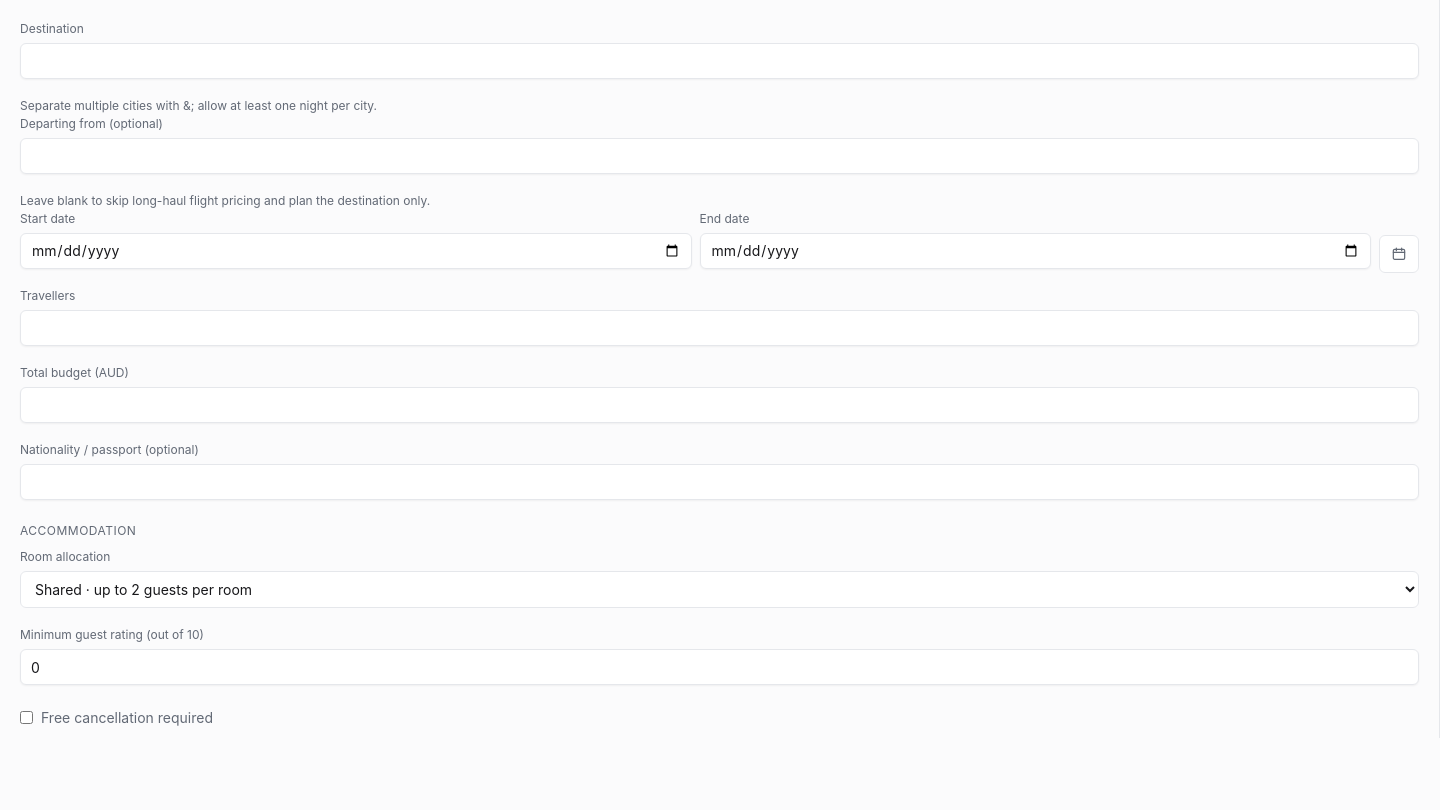
FiltersPanel dates › opens the same calendar picker used in chat from a dedicated button
Click the button named "pick trip dates from a calendar". click: (1399, 254)
box: [1379, 235, 1419, 273]
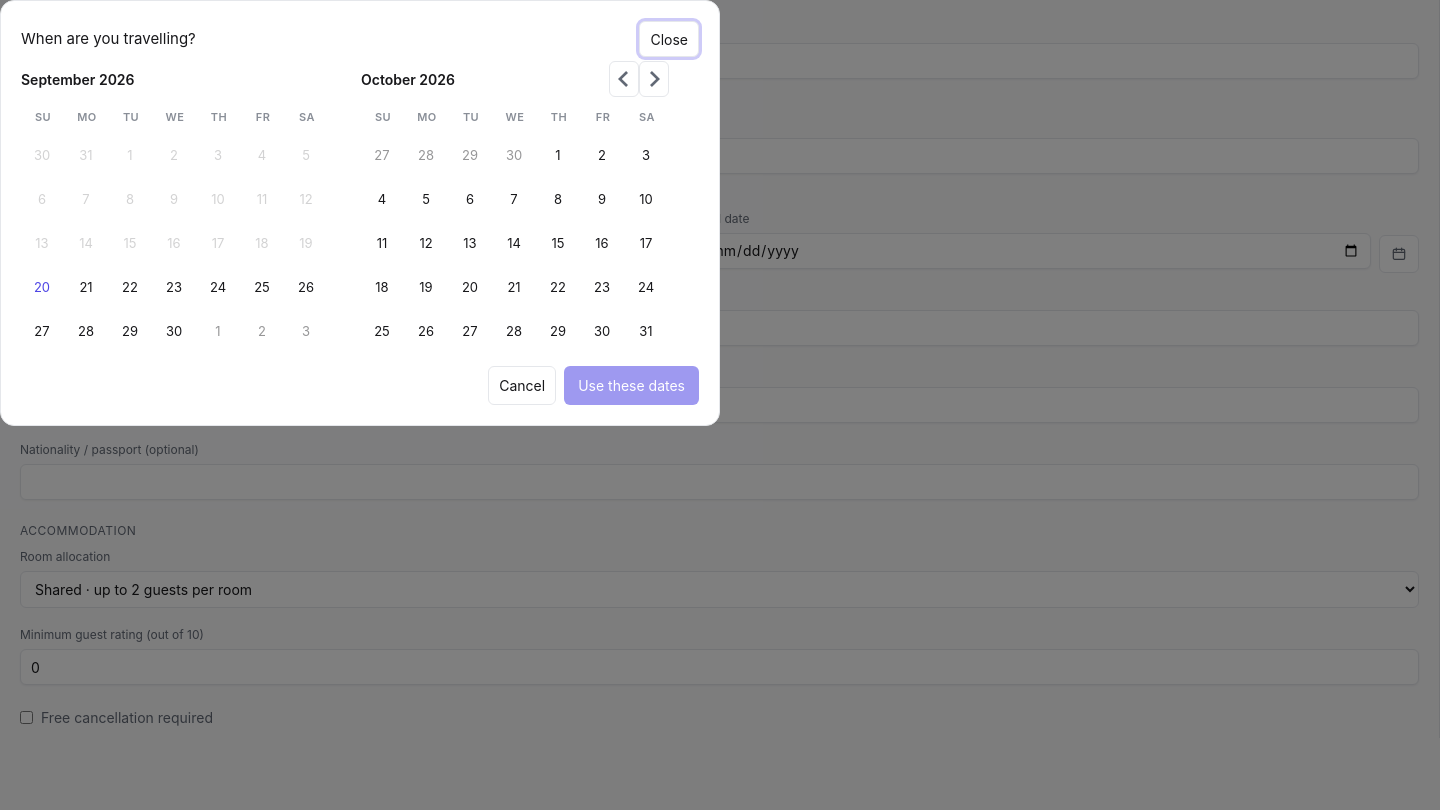
expect the heading "When are you travelling?" is shown: met, box [21, 28, 196, 50]
